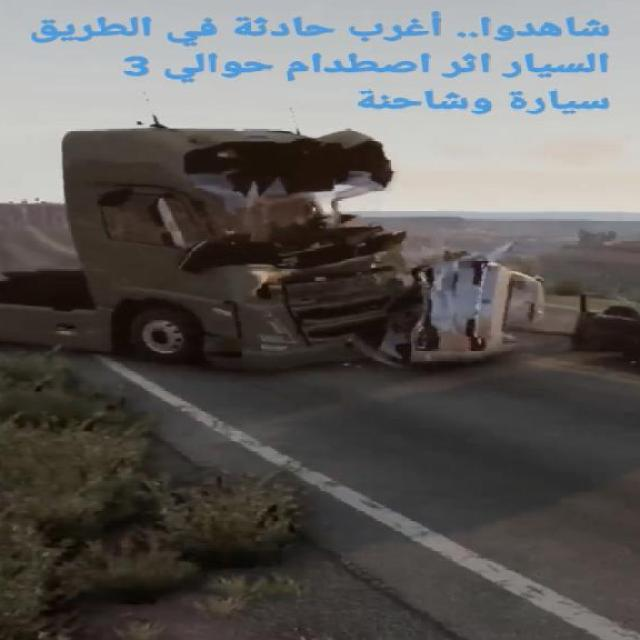accident: (19, 128, 569, 372)
